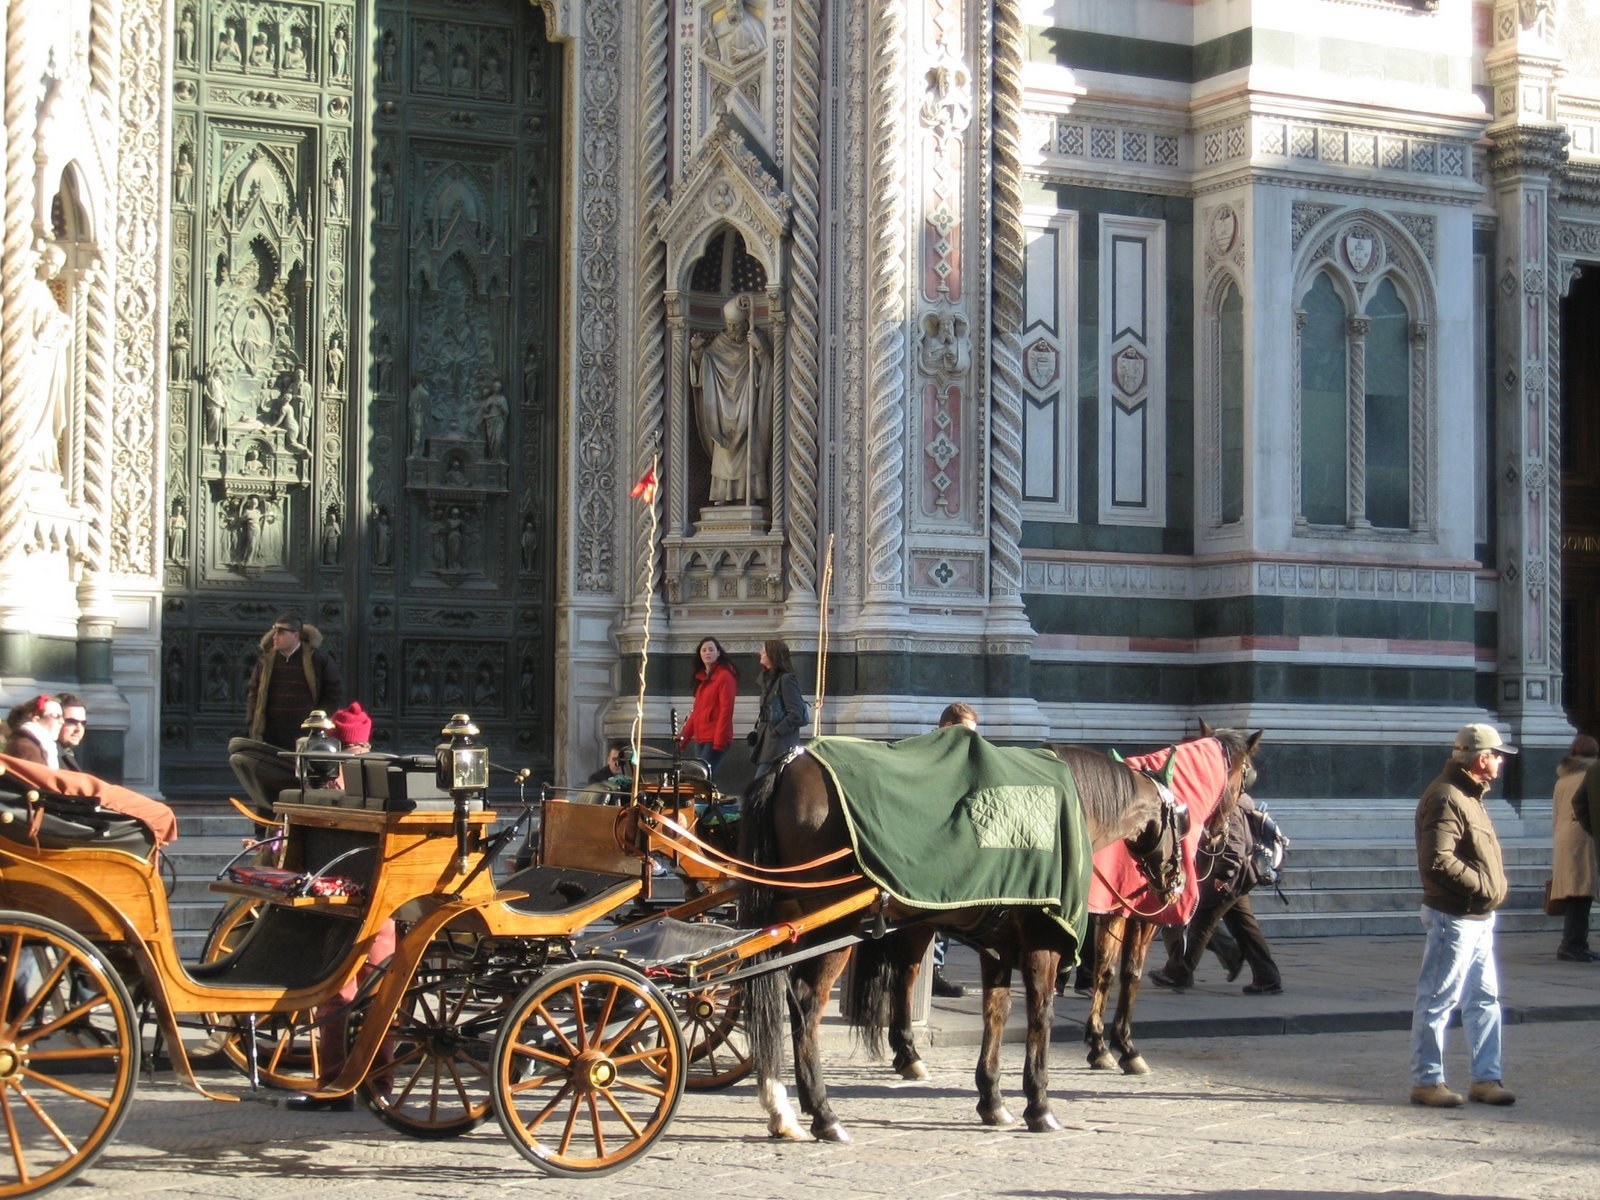horse: (727, 727, 1186, 1146), (845, 713, 1269, 1089)
